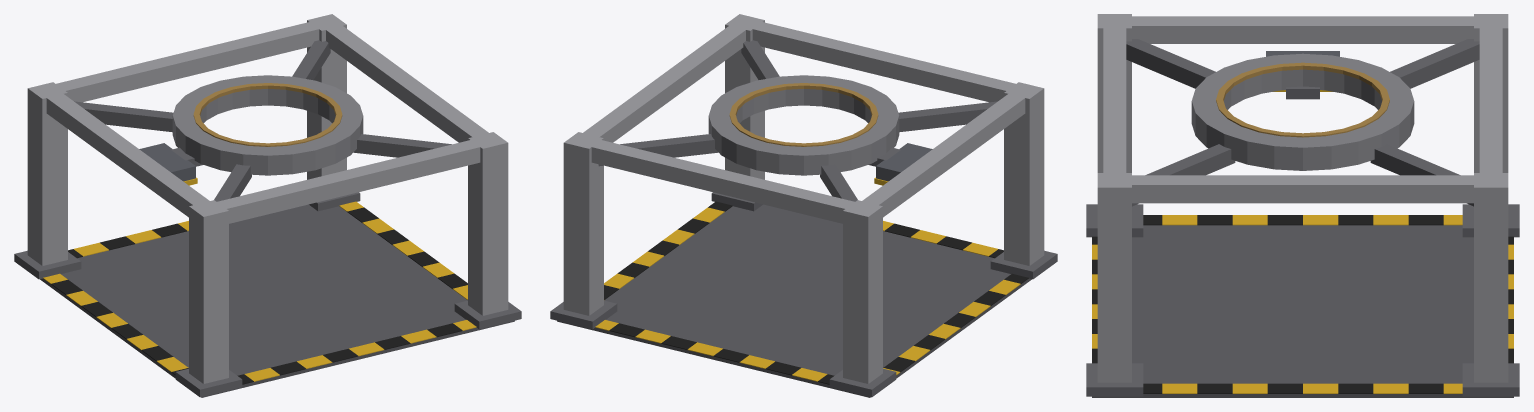
Rendered from vge_gun_frame_3x3_trim.obj.
3 renders of one model, left to right at view 1: azimuth 30°, elevation 25°; view 2: azimuth 150°, elevation 25°; view 3: azimuth 270°, elevation 25°, orthographic. The views are drawn at different scales.
Visible parts, largest first — view 1: vge_gun_frame_3x3_trim_0, vge_gun_frame_3x3_trim_61, vge_gun_frame_3x3_trim_50, vge_gun_frame_3x3_trim_54, vge_gun_frame_3x3_trim_52, vge_gun_frame_3x3_trim_57, vge_gun_frame_3x3_trim_59, vge_gun_frame_3x3_trim_58, vge_gun_frame_3x3_trim_60, vge_gun_frame_3x3_trim_56, vge_gun_frame_3x3_trim_62, vge_gun_frame_3x3_trim_64 (+8 smaller); view 2: vge_gun_frame_3x3_trim_0, vge_gun_frame_3x3_trim_61, vge_gun_frame_3x3_trim_52, vge_gun_frame_3x3_trim_56, vge_gun_frame_3x3_trim_50, vge_gun_frame_3x3_trim_59, vge_gun_frame_3x3_trim_57, vge_gun_frame_3x3_trim_58, vge_gun_frame_3x3_trim_60, vge_gun_frame_3x3_trim_54, vge_gun_frame_3x3_trim_62, vge_gun_frame_3x3_trim_63 (+8 smaller); view 3: vge_gun_frame_3x3_trim_0, vge_gun_frame_3x3_trim_61, vge_gun_frame_3x3_trim_60, vge_gun_frame_3x3_trim_58, vge_gun_frame_3x3_trim_54, vge_gun_frame_3x3_trim_56, vge_gun_frame_3x3_trim_57, vge_gun_frame_3x3_trim_59, vge_gun_frame_3x3_trim_62, vge_gun_frame_3x3_trim_50, vge_gun_frame_3x3_trim_52, vge_gun_frame_3x3_trim_63 (+24 smaller).
Boxes of the visible parts, left/top/right/bottom form: vge_gun_frame_3x3_trim_0: left=40, top=204, right=514, bottom=397; vge_gun_frame_3x3_trim_61: left=172, top=75, right=363, bottom=175; vge_gun_frame_3x3_trim_50: left=189, top=200, right=228, bottom=383; vge_gun_frame_3x3_trim_54: left=468, top=132, right=508, bottom=315; vge_gun_frame_3x3_trim_52: left=27, top=82, right=67, bottom=265; vge_gun_frame_3x3_trim_57: left=205, top=138, right=484, bottom=223; vge_gun_frame_3x3_trim_59: left=56, top=20, right=330, bottom=102; vge_gun_frame_3x3_trim_58: left=44, top=93, right=211, bottom=217; vge_gun_frame_3x3_trim_60: left=325, top=24, right=491, bottom=142; vge_gun_frame_3x3_trim_56: left=307, top=14, right=346, bottom=179; vge_gun_frame_3x3_trim_62: left=193, top=83, right=342, bottom=146; vge_gun_frame_3x3_trim_64: left=74, top=101, right=173, bottom=132; vge_gun_frame_3x3_trim_0: left=557, top=204, right=1031, bottom=397; vge_gun_frame_3x3_trim_61: left=708, top=75, right=899, bottom=175; vge_gun_frame_3x3_trim_52: left=843, top=200, right=882, bottom=383; vge_gun_frame_3x3_trim_56: left=563, top=132, right=603, bottom=315; vge_gun_frame_3x3_trim_50: left=1004, top=82, right=1044, bottom=265; vge_gun_frame_3x3_trim_59: left=591, top=140, right=866, bottom=223; vge_gun_frame_3x3_trim_57: left=741, top=21, right=1015, bottom=102; vge_gun_frame_3x3_trim_58: left=860, top=93, right=1027, bottom=217; vge_gun_frame_3x3_trim_60: left=580, top=25, right=745, bottom=142; vge_gun_frame_3x3_trim_54: left=725, top=14, right=764, bottom=179; vge_gun_frame_3x3_trim_62: left=729, top=83, right=878, bottom=146; vge_gun_frame_3x3_trim_63: left=898, top=101, right=997, bottom=132; vge_gun_frame_3x3_trim_0: left=1092, top=225, right=1513, bottom=397; vge_gun_frame_3x3_trim_61: left=1191, top=53, right=1414, bottom=170; vge_gun_frame_3x3_trim_60: left=1126, top=175, right=1479, bottom=203; vge_gun_frame_3x3_trim_58: left=1126, top=16, right=1479, bottom=43; vge_gun_frame_3x3_trim_54: left=1097, top=173, right=1131, bottom=382; vge_gun_frame_3x3_trim_56: left=1474, top=173, right=1508, bottom=382; vge_gun_frame_3x3_trim_57: left=1103, top=22, right=1126, bottom=179; vge_gun_frame_3x3_trim_59: left=1479, top=22, right=1502, bottom=178; vge_gun_frame_3x3_trim_62: left=1216, top=62, right=1389, bottom=137; vge_gun_frame_3x3_trim_50: left=1097, top=14, right=1131, bottom=172; vge_gun_frame_3x3_trim_52: left=1474, top=14, right=1508, bottom=172; vge_gun_frame_3x3_trim_63: left=1126, top=39, right=1215, bottom=88.
Bounding box in the file's own units: 3.04 × 1.62 × 3.04.
